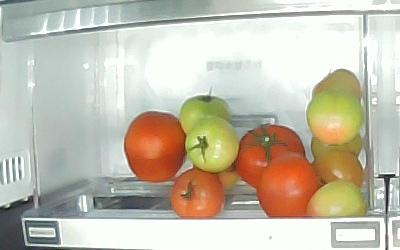tomato: (235, 123, 306, 188), (123, 110, 185, 183), (258, 154, 319, 218), (185, 117, 240, 172), (306, 89, 362, 143), (171, 169, 226, 219), (308, 180, 368, 218), (178, 94, 231, 132), (311, 149, 364, 186), (312, 69, 362, 104), (310, 132, 364, 158)
